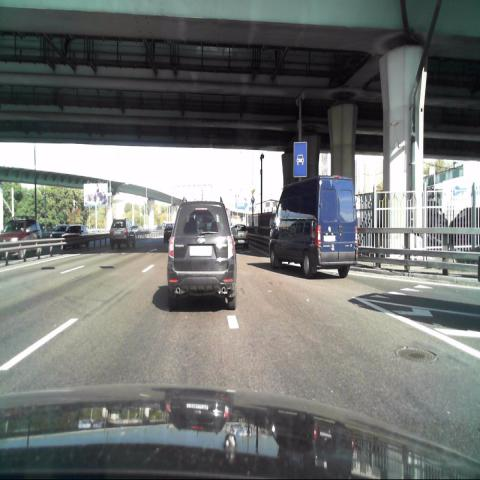5_3: (294, 140, 308, 176)
